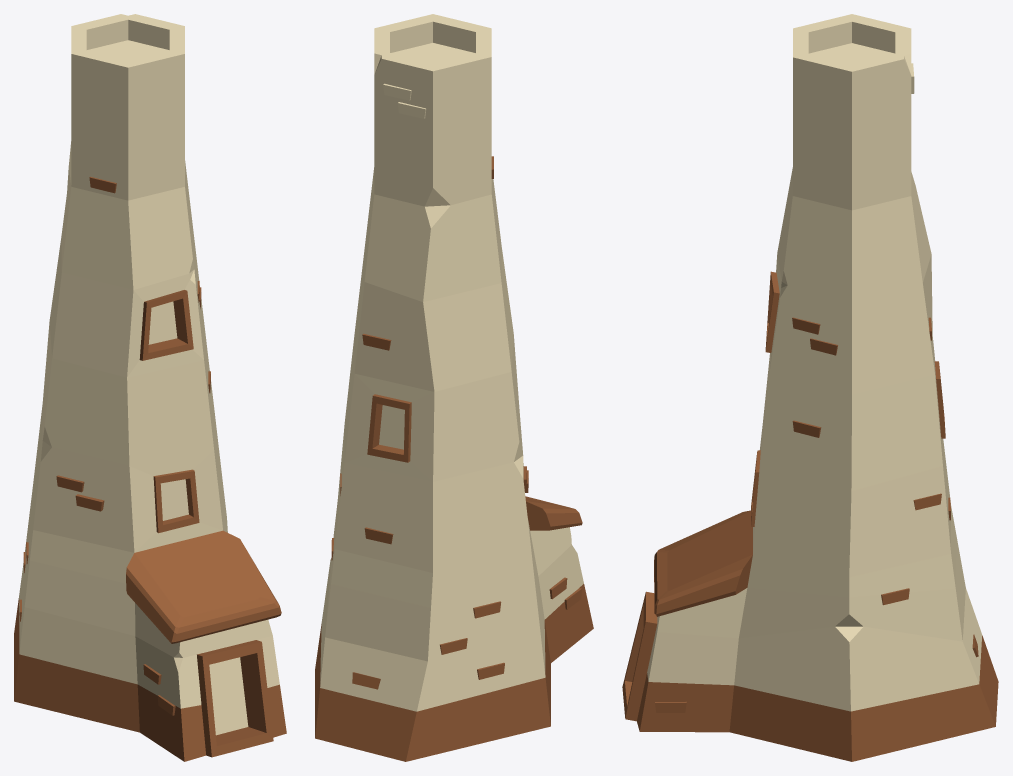
File: House_4.fbx
3 renders of one model, left to right at view 1: azimuth 30°, elevation 25°; view 2: azimuth 150°, elevation 25°; view 3: azimuth 270°, elevation 25°, orthographic. The views are drawn at different scales.
Parts seen in each view (by area): view 1: House_4; view 2: House_4; view 3: House_4.
Boxes of the visible parts, left/top/right/bottom form: House_4: left=14, top=14, right=286, bottom=761; House_4: left=315, top=14, right=593, bottom=761; House_4: left=622, top=14, right=998, bottom=761.
Bounding box in the file's own units: 210 × 557 × 287.
